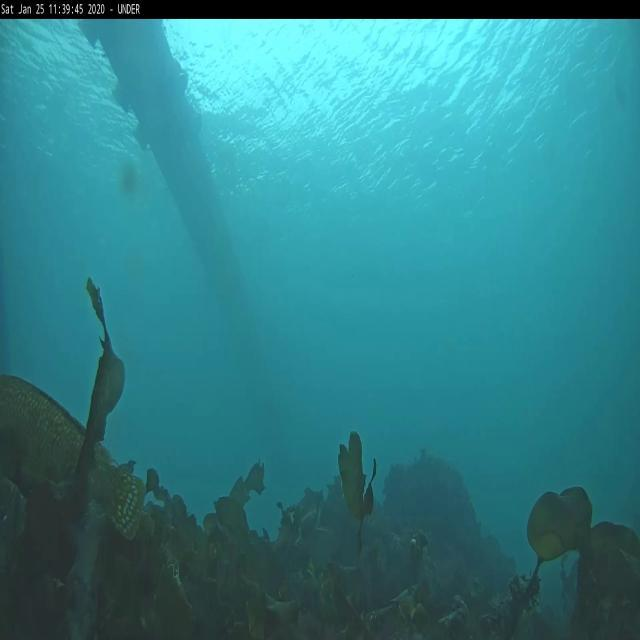fish: (1, 371, 146, 537), (120, 162, 143, 198)
